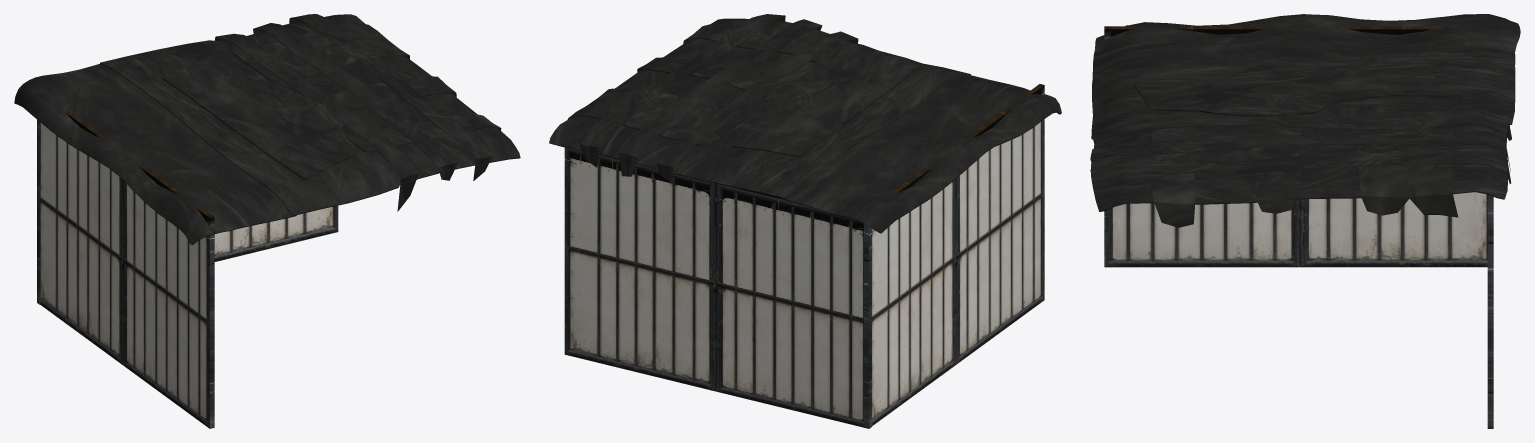
File: casa_izquierda_11.fbx
3 views of the same model, side by side, from view 1: azimuth 30°, elevation 25°; view 2: azimuth 150°, elevation 25°; view 3: azimuth 270°, elevation 25° (orthographic). The views are drawn at different scales.
Visible parts, largest first — view 1: Techo_11, casa_izquierda_11.002, casa_izquierda_11.001; view 2: casa_izquierda_11.001, Techo_11, casa_izquierda_11.002; view 3: Techo_11, casa_izquierda_11.002, casa_izquierda_11.001.
Boxes of the visible parts, x1,y1,x2,y2 form: Techo_11: [14, 14, 520, 245]; casa_izquierda_11.002: [40, 110, 214, 428]; casa_izquierda_11.001: [37, 119, 338, 304]; casa_izquierda_11.001: [564, 147, 871, 428]; Techo_11: [549, 14, 1061, 233]; casa_izquierda_11.002: [864, 84, 1044, 428]; Techo_11: [1090, 14, 1520, 227]; casa_izquierda_11.002: [1104, 26, 1487, 267]; casa_izquierda_11.001: [1487, 195, 1493, 428].
Size of the model in its own units: 725 by 463 by 705.
